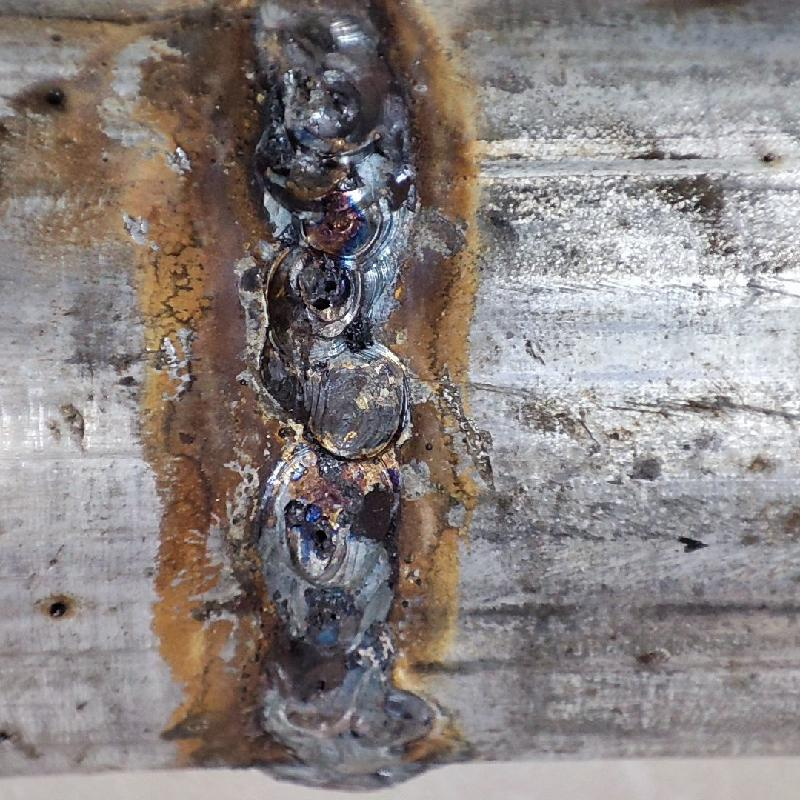Not_fully_soldered: (253, 3, 388, 69)
Surface_pores: (297, 509, 350, 569), (293, 263, 351, 317)
